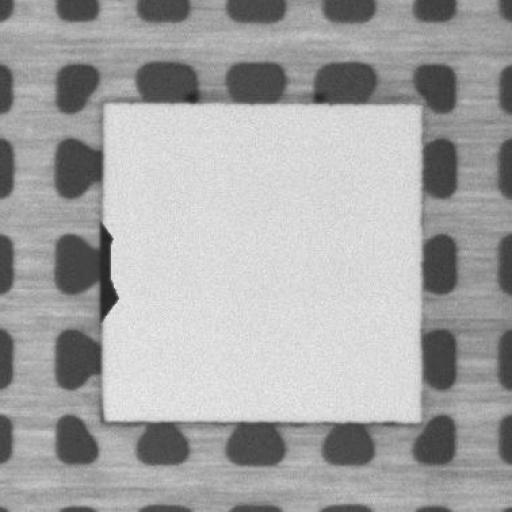DIE_BROKEN: (95, 223, 120, 317)
